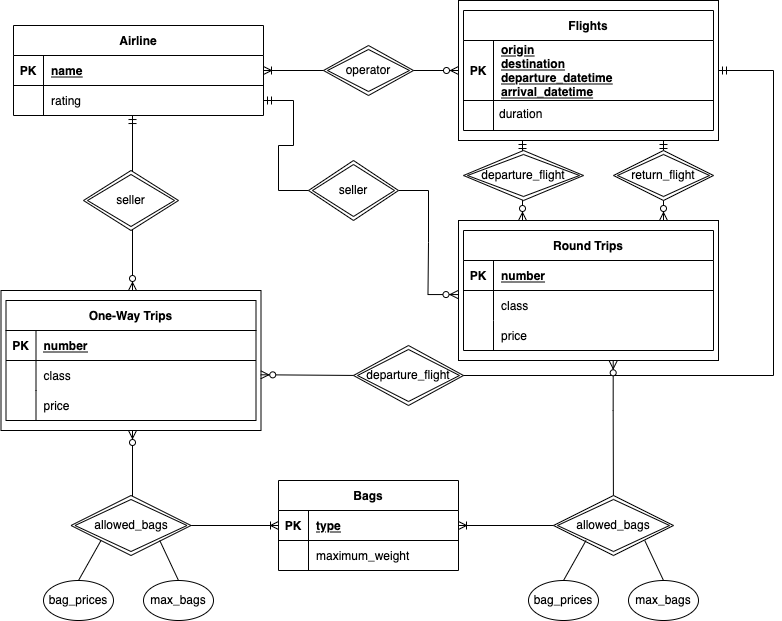entity: (14, 25, 264, 116), (278, 480, 458, 573)
ident_rel: (552, 495, 675, 557), (71, 496, 193, 556), (356, 345, 465, 408), (83, 169, 179, 230), (463, 151, 586, 198), (309, 161, 400, 222), (612, 152, 715, 200), (326, 44, 412, 96)
many: (606, 359, 620, 398), (260, 369, 292, 384), (429, 288, 458, 303), (263, 64, 295, 77), (128, 430, 140, 463), (126, 263, 140, 290), (459, 520, 485, 534), (430, 65, 458, 78), (656, 198, 671, 221), (256, 520, 280, 534), (516, 200, 529, 222)
one: (720, 65, 755, 78), (263, 95, 294, 108), (127, 116, 139, 143), (517, 140, 529, 153), (659, 140, 671, 153)
rel_attr: (627, 580, 700, 621), (43, 580, 115, 621), (528, 580, 600, 621), (143, 581, 215, 621)
weak_entity: (458, 220, 720, 359), (1, 290, 261, 430), (459, 1, 719, 139)
